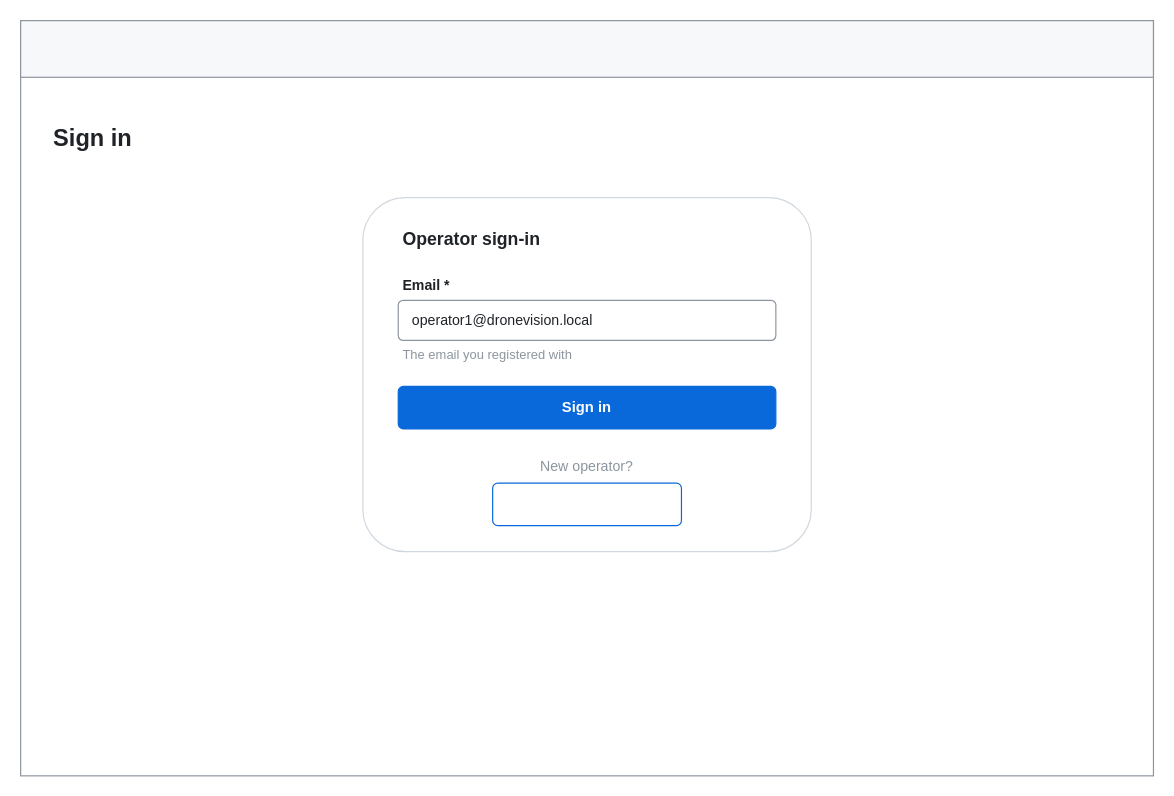
Some shapes in this 1174 by 796 pixel diagram are drawn without their labels. Each missing label, with the box of its shape:
Drone Vision: (19, 19, 1153, 77)
Register: (491, 482, 681, 526)
